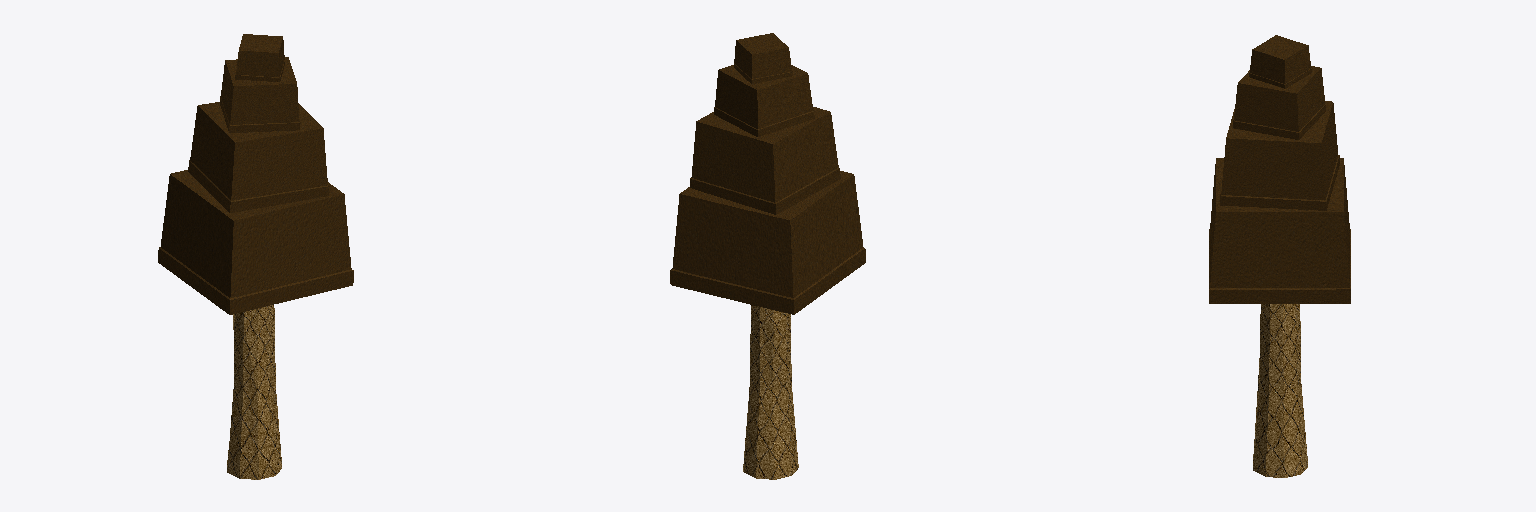
3 renders of one model, left to right at view 1: azimuth 30°, elevation 25°; view 2: azimuth 150°, elevation 25°; view 3: azimuth 270°, elevation 25°, orthographic.
Parts seen in each view (by area): view 1: Cube.004, wood_Cylinder; view 2: Cube.004, wood_Cylinder; view 3: Cube.004, wood_Cylinder.
Boxes of the visible parts, x1=… form: Cube.004: x1=158, y1=34, x2=353, y2=314; wood_Cylinder: x1=227, y1=305, x2=281, y2=479; Cube.004: x1=670, y1=33, x2=865, y2=314; wood_Cylinder: x1=743, y1=305, x2=798, y2=479; Cube.004: x1=1209, y1=35, x2=1350, y2=303; wood_Cylinder: x1=1253, y1=304, x2=1307, y2=477.
Bounding box in the file's own units: 0.8732 × 2.85 × 0.8716.
2 materials, 2 textured.